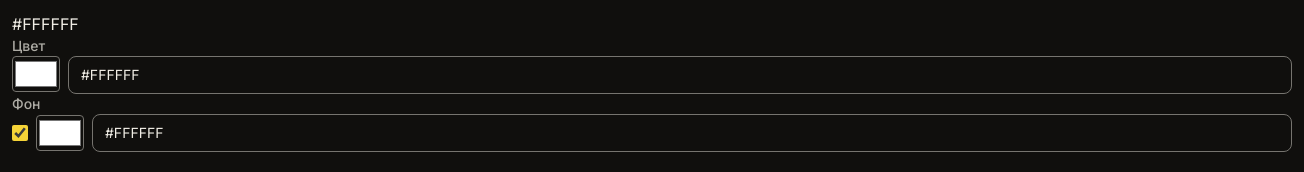
Test: поле цвета › код, набранный текстом, двигает палитру
Replace the text in the field named "Цвет, HEX" with "#00ff00" at (680, 75), box [68, 56, 1292, 94]
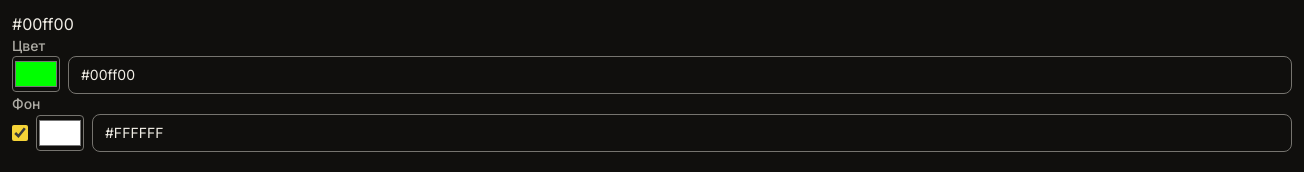
Check: the colour field with id "color" holds "#00ff00", box [12, 56, 60, 92]
